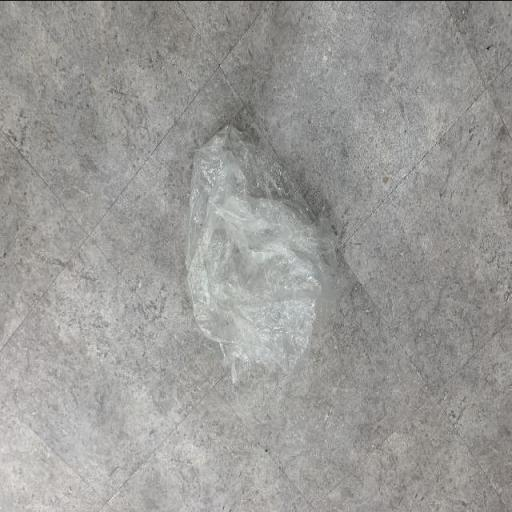plastic-bag: (180, 120, 335, 410)
